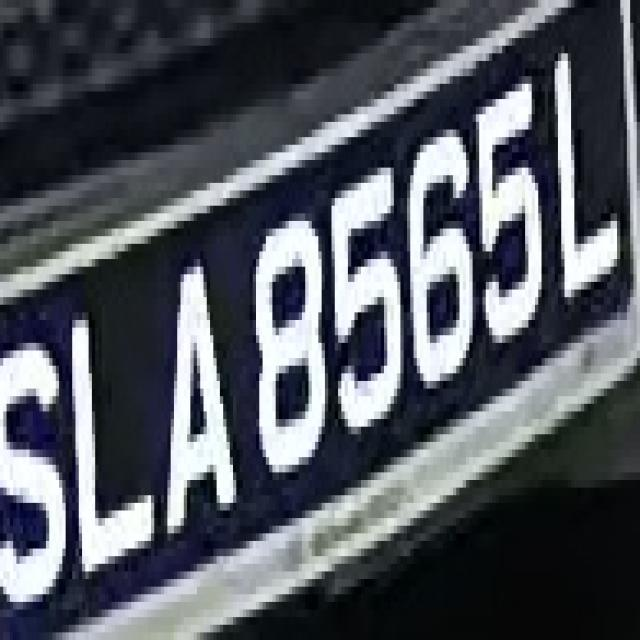5: (469, 68, 555, 366), (322, 160, 404, 450)
6: (388, 122, 482, 411)
8: (243, 206, 328, 472)
A: (158, 221, 240, 564)
L: (69, 282, 157, 602), (538, 38, 624, 320)
S: (6, 312, 69, 625)
